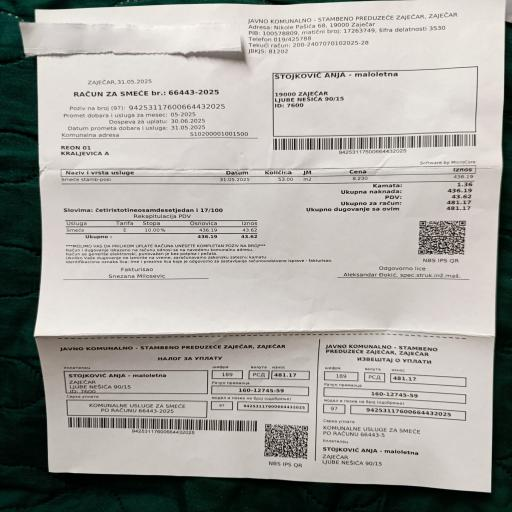racun_za_smece: (57, 167, 480, 206)
